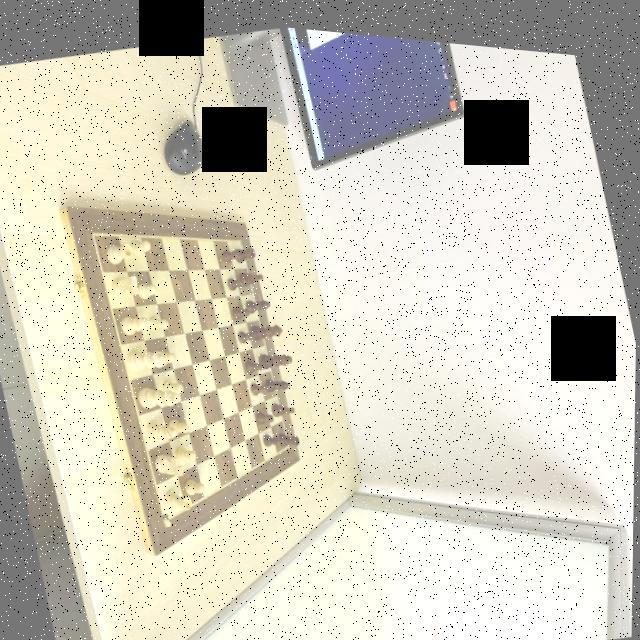chess-table-corners: (159, 509, 171, 525), (89, 226, 98, 240), (237, 231, 243, 240), (286, 438, 291, 444)
